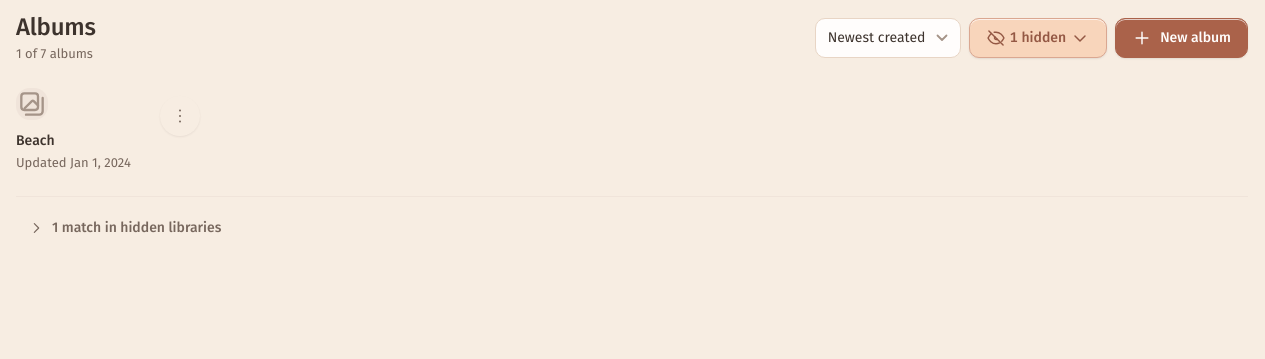
Test: Albums: sort, pins, hidden libraries › lists search matches from hidden libraries in a closed section
Expected: the list with test id "albums-grid" is shown, [16,88,208,172]
Expected: the element with test id "albums-hidden-matches" reads "1 match in hidden libraries", [16,196,1248,246]
Click the heading "1 match in hidden libraries".
click(125, 228)  # box [28,219,221,236]
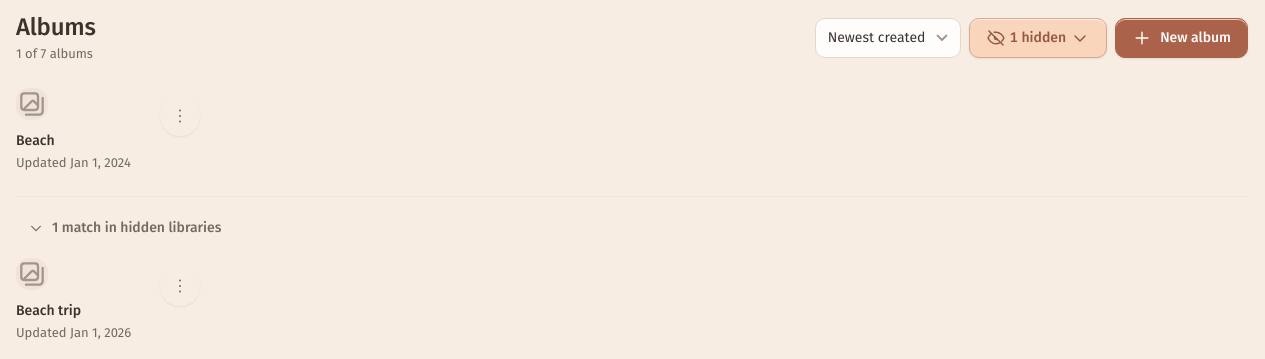
Expected: the text "Beach trip" is shown, [16,300,81,321]
